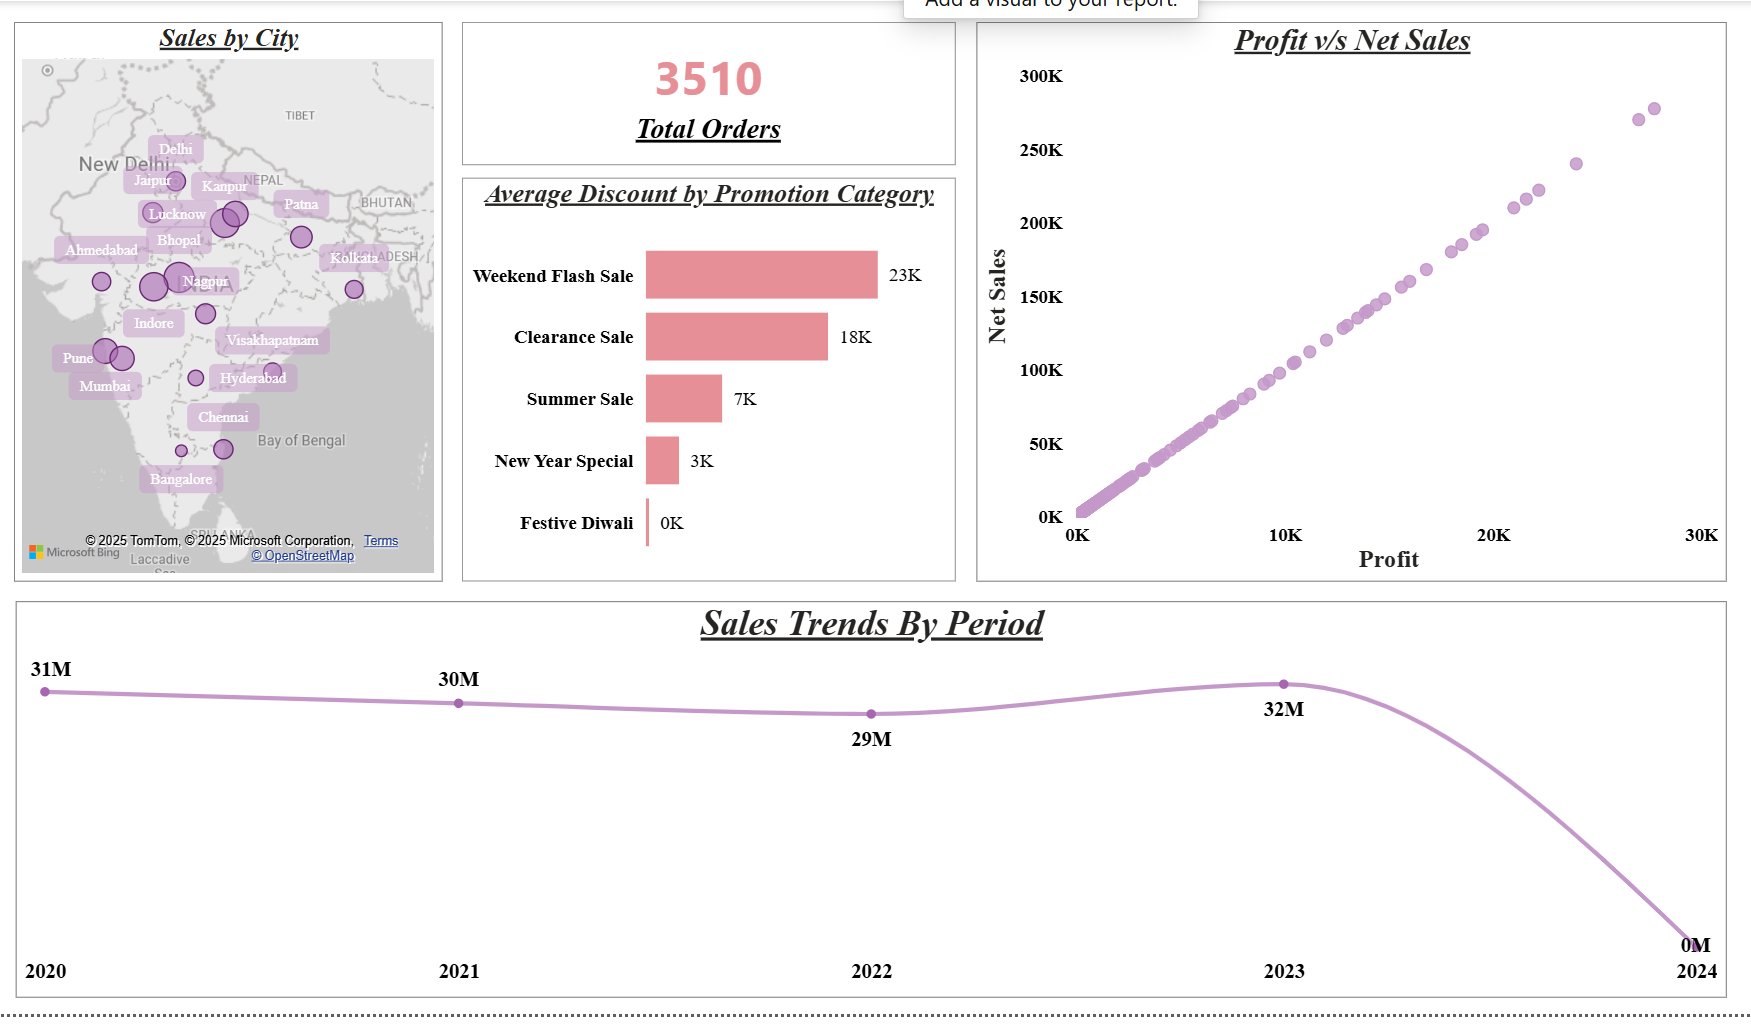

What the dashboard file says about the page in this screenshot:
{"tool":"powerbi","page":{"name":"Overview","canvas":[1280,720],"ordinal":0},"visuals":[{"type":"lineChart","title":"Sales Trends By Period","fields":{"Y":["Sum(Fact Table.Net Sales   )"],"Category":["Date Table 1.Date.Variation.Date Hierarchy.Year"]},"box":[45.7,427.1,1215.7,281.4],"z":0},{"type":"scatterChart","title":"Profit v/s Net Sales   ","fields":{"X":["Fact Table.Profit"],"Y":["Sum(Fact Table.Net Sales   )"]},"box":[728.3,14.9,533.4,398],"z":1000},{"type":"barChart","title":"Average Discount by Promotion Category","fields":{"Y":["Avg(Fact Table.Discount Value)"],"Category":["Dim Promotion.Promotion Name"]},"box":[362.8,125.9,350.6,287],"z":2000},{"type":"map","title":"Sales by City","fields":{"Category":["Dim Customers.City"],"Size":["Sum(Fact Table.Net Sales   )"]},"box":[44.7,14.9,304.6,398],"z":3000},{"type":"card","fields":{"Values":["Count(Fact Table.Order ID)"]},"box":[362.8,14.9,350.6,101.5],"z":4000}]}

Visuals, with their boxes on the page's 1280x720 design canvas (x1, y1, x2, y2). These are canvas units, not pixel positions in the 1751x1030 screenshot, which may show the page scaled, cropped or inside an application window:
"Sales Trends By Period" lineChart: {"x1": 46, "y1": 427, "x2": 1261, "y2": 708}
"Profit v/s Net Sales   " scatterChart: {"x1": 728, "y1": 15, "x2": 1262, "y2": 413}
"Average Discount by Promotion Category" barChart: {"x1": 363, "y1": 126, "x2": 713, "y2": 413}
"Sales by City" map: {"x1": 45, "y1": 15, "x2": 349, "y2": 413}
card - Count(Fact Table.Order ID): {"x1": 363, "y1": 15, "x2": 713, "y2": 116}
